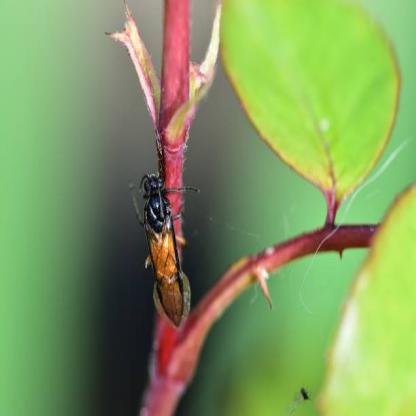sawfly: (128, 161, 198, 331)
